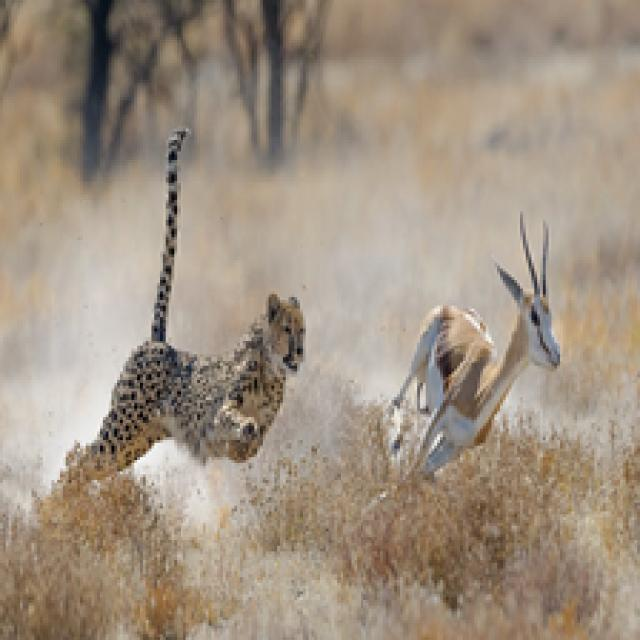cheetah: (56, 113, 332, 524)
